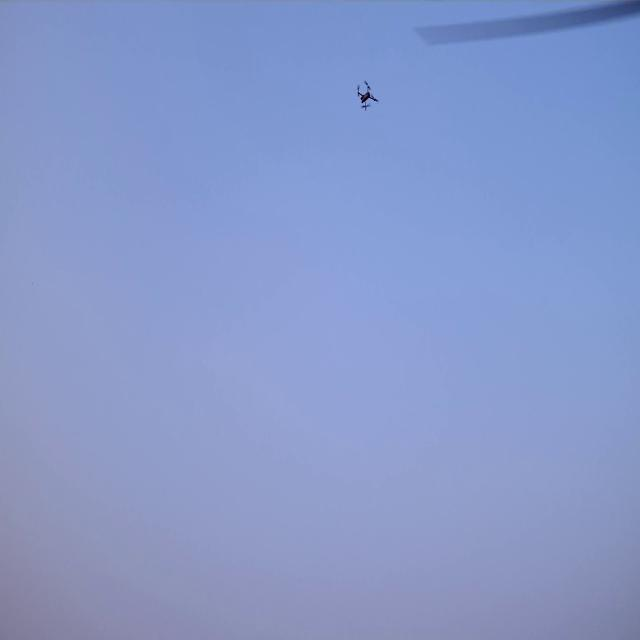UAV: (358, 82, 377, 110)
